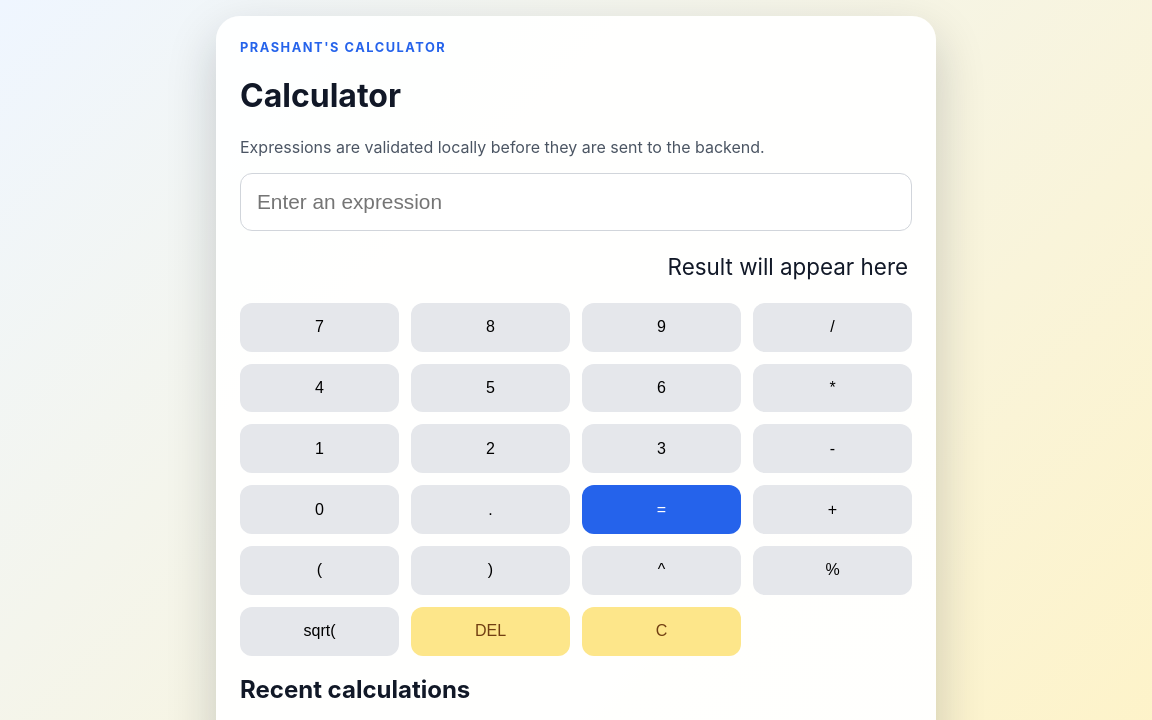
Test: App › supports percent and exponentiation buttons
The image size is (1152, 720).
Click the button named "insert %": (832, 570) [753, 546, 912, 595]
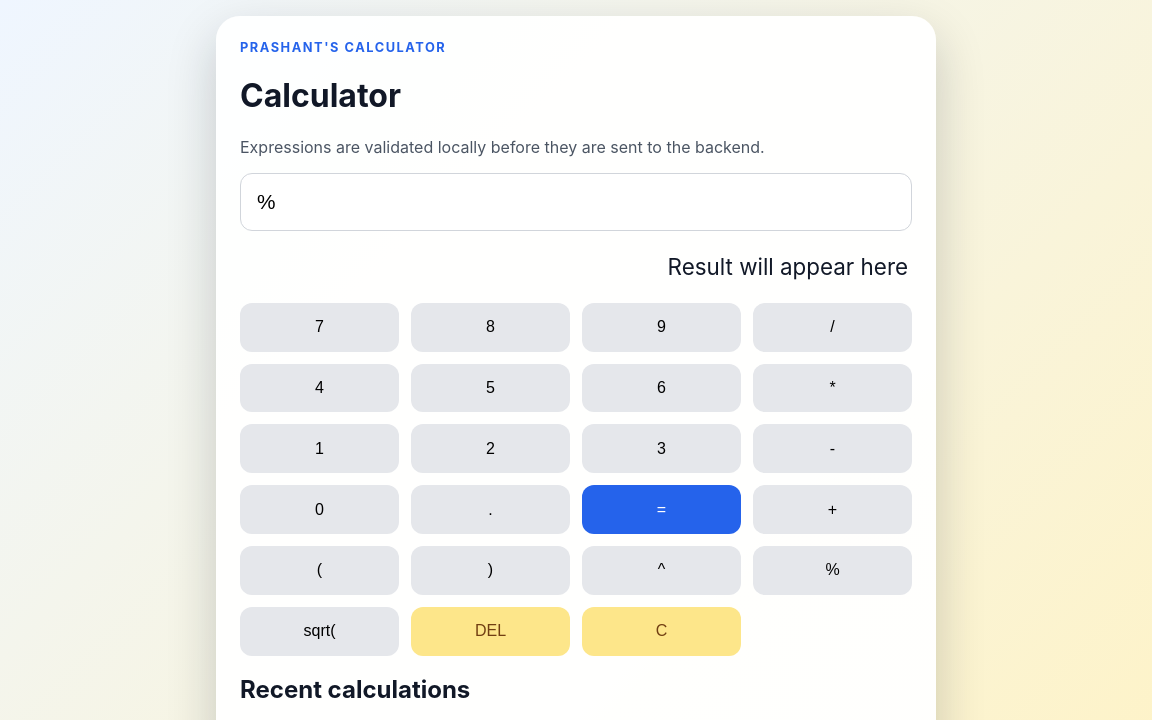
Click the button named "insert ^": (662, 570) [582, 546, 741, 595]
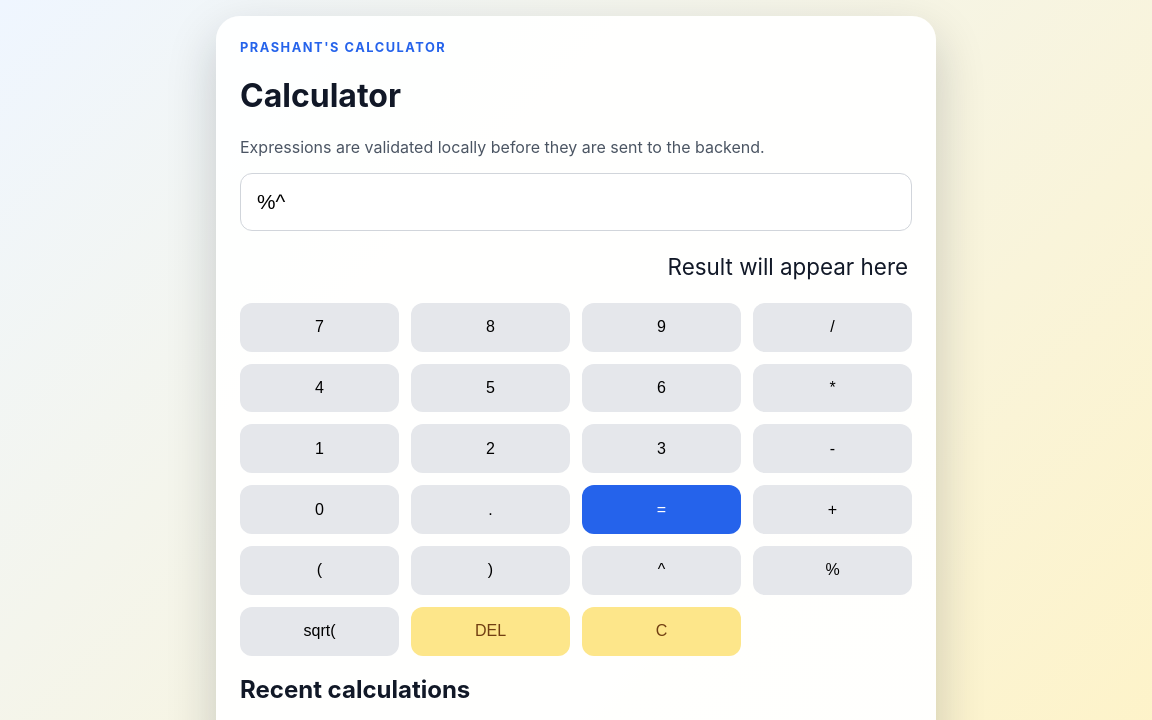
Result: the field named "expression" holds "%^" at [240, 173, 912, 231]
